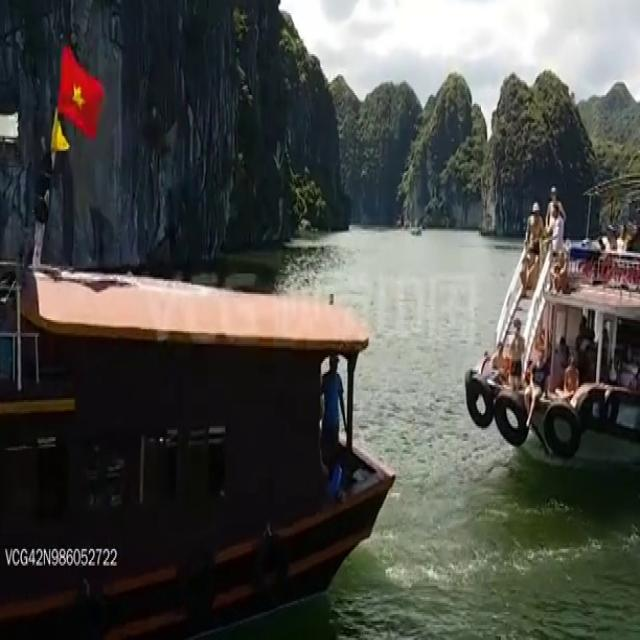passenger ship: (0, 95, 390, 627), (466, 163, 640, 460)
